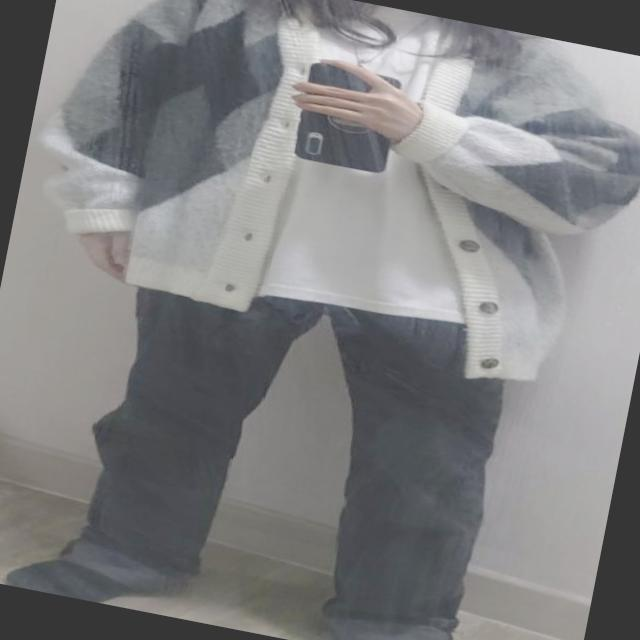cardigan: (6, 0, 640, 405)
denimpants: (57, 252, 528, 640)
